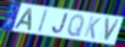A: (13, 7, 33, 31)
I: (37, 9, 49, 34)
J: (51, 13, 69, 35)
K: (83, 16, 102, 41)
Q: (66, 14, 85, 38)
V: (103, 16, 121, 43)
